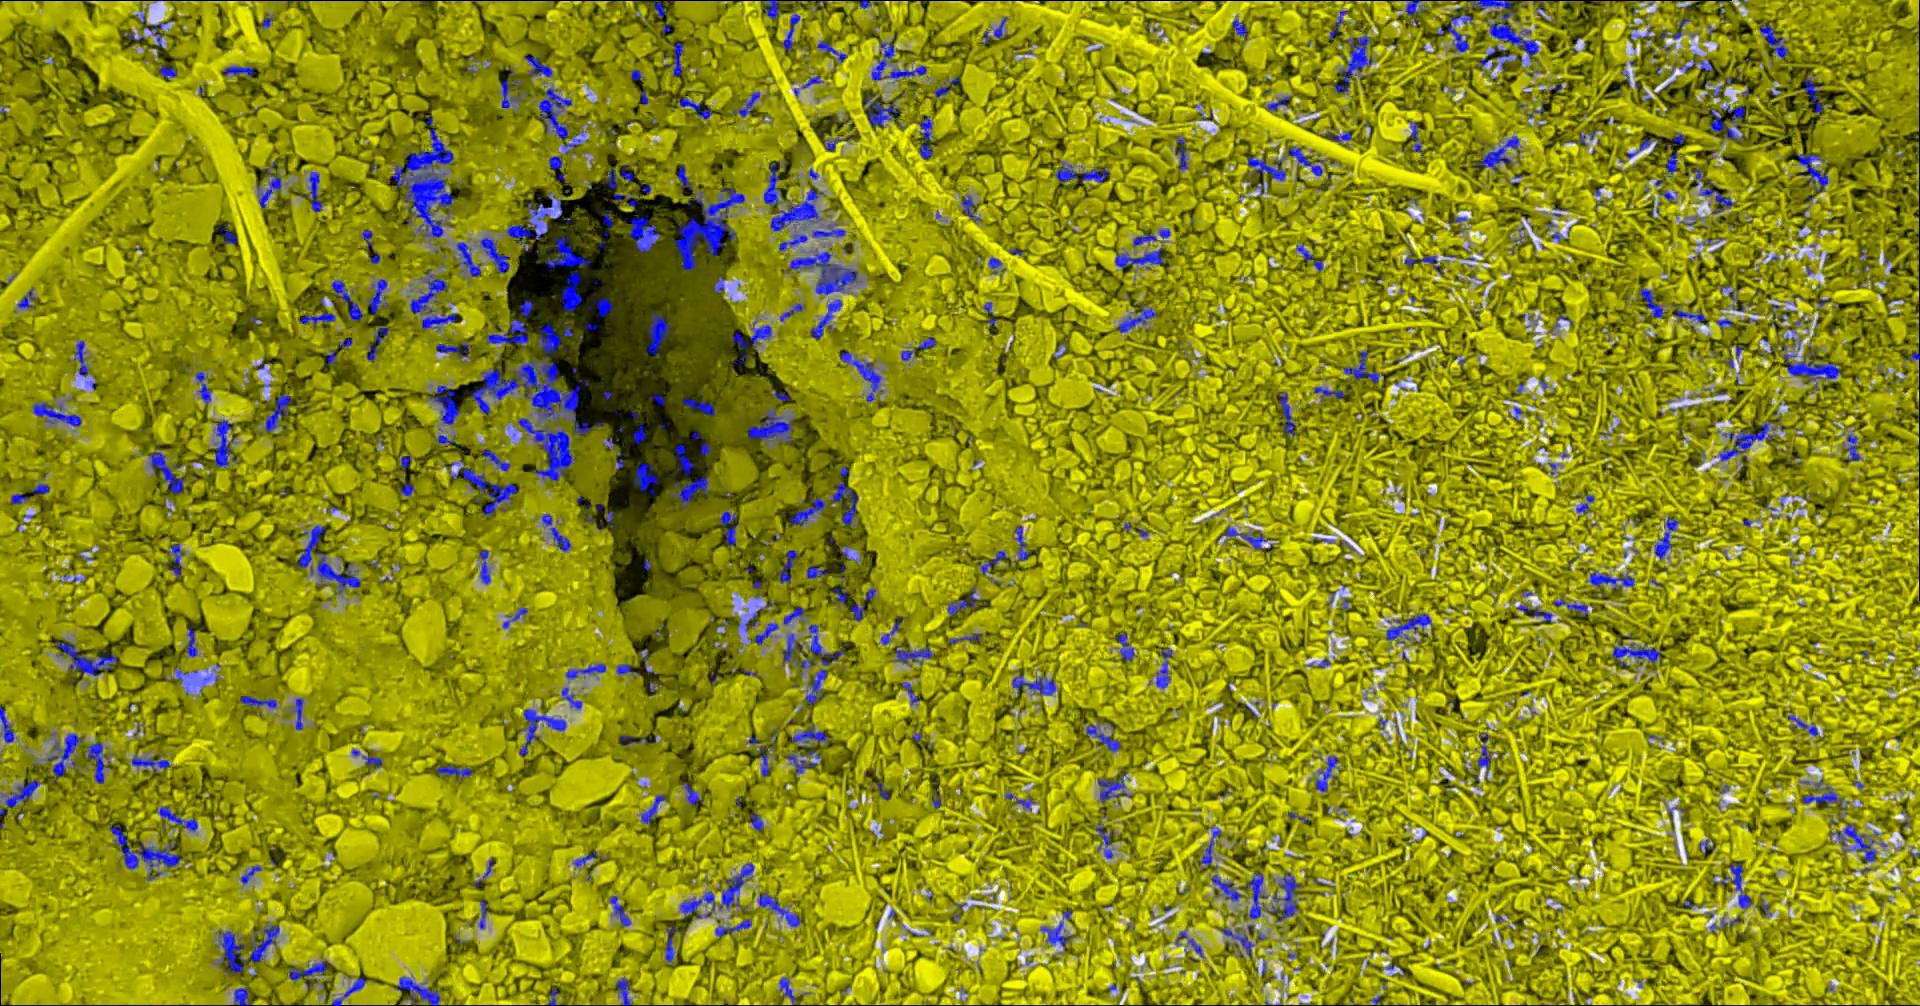ant: (679, 862, 753, 918), (804, 624, 843, 708), (451, 467, 517, 514), (537, 86, 583, 152), (505, 191, 555, 250), (409, 268, 456, 330), (1718, 417, 1784, 460), (871, 33, 926, 83), (55, 641, 117, 685), (770, 185, 824, 231), (518, 708, 566, 754), (839, 349, 883, 401), (1335, 33, 1371, 93), (1689, 166, 1732, 213), (1782, 344, 1839, 379), (1829, 823, 1876, 861), (47, 733, 83, 781), (1473, 135, 1519, 171), (748, 409, 794, 445), (149, 451, 185, 494), (543, 235, 590, 268), (757, 892, 801, 926), (623, 213, 660, 251), (1217, 526, 1272, 550), (427, 384, 460, 424), (1385, 614, 1431, 643), (394, 976, 439, 1005), (783, 633, 815, 674), (133, 10, 168, 48), (1611, 641, 1660, 668), (1039, 909, 1073, 946), (1796, 152, 1827, 192), (669, 475, 709, 507), (331, 279, 362, 320), (810, 298, 841, 339), (863, 93, 899, 127), (1710, 104, 1743, 141), (32, 401, 81, 426), (1343, 351, 1379, 384), (486, 318, 528, 345), (830, 481, 857, 525), (257, 159, 279, 208), (786, 746, 822, 777), (541, 513, 570, 551), (479, 238, 509, 273), (1728, 860, 1751, 907), (1114, 246, 1163, 268), (1117, 304, 1156, 332), (646, 311, 670, 354), (215, 419, 236, 467), (1288, 146, 1323, 175), (1222, 927, 1257, 956), (790, 497, 827, 525), (1055, 163, 1109, 182), (155, 807, 197, 831), (1097, 772, 1131, 801), (1759, 22, 1787, 57), (1084, 723, 1120, 751), (330, 977, 366, 1005), (763, 161, 786, 205), (1655, 517, 1677, 560), (1247, 155, 1285, 180), (1404, 250, 1443, 276), (264, 392, 290, 431), (947, 586, 980, 615), (1011, 673, 1055, 695), (5, 779, 39, 807), (298, 171, 323, 211), (1199, 826, 1220, 869), (791, 723, 829, 747), (88, 741, 109, 782), (631, 462, 658, 495), (560, 271, 582, 311), (455, 241, 480, 276), (1589, 570, 1634, 589), (850, 587, 875, 621), (1801, 77, 1825, 113), (900, 337, 936, 359), (1479, 46, 1511, 71), (759, 0, 801, 19), (1801, 786, 1843, 805), (1316, 754, 1337, 791), (1277, 391, 1295, 436), (678, 97, 712, 119), (1210, 874, 1239, 901), (778, 549, 797, 589), (1672, 304, 1708, 325), (366, 326, 389, 359), (1638, 288, 1663, 318), (1131, 227, 1170, 246), (367, 278, 387, 314), (1552, 598, 1592, 616), (1175, 931, 1203, 956), (603, 164, 632, 188), (640, 794, 664, 823), (288, 960, 325, 979), (817, 39, 847, 62), (1095, 822, 1114, 857), (731, 91, 759, 116), (1477, 732, 1491, 780), (1658, 17, 1689, 38), (917, 116, 932, 159), (436, 342, 472, 359), (499, 79, 522, 107), (585, 295, 613, 318), (880, 616, 903, 644), (1156, 647, 1171, 688), (895, 645, 931, 663), (715, 918, 750, 936), (481, 448, 510, 470), (749, 622, 778, 644), (1787, 715, 1817, 735), (610, 895, 630, 926), (664, 42, 682, 76), (524, 53, 551, 76), (719, 511, 737, 545), (979, 550, 1006, 573), (565, 663, 604, 678), (782, 14, 799, 50), (436, 763, 471, 780), (674, 443, 693, 474), (756, 746, 775, 776), (131, 756, 169, 771), (682, 398, 714, 415), (1517, 605, 1550, 621), (72, 340, 88, 376), (166, 542, 182, 578), (1627, 138, 1655, 158), (749, 323, 771, 347), (1004, 793, 1034, 810), (502, 607, 527, 627), (298, 312, 335, 326), (1330, 10, 1347, 38), (1015, 525, 1029, 560), (0, 706, 14, 742), (615, 977, 632, 1005), (778, 977, 796, 1005), (935, 76, 959, 97), (1709, 916, 1741, 931), (778, 234, 808, 250), (1531, 0, 1558, 18), (239, 695, 276, 708), (664, 925, 677, 962), (1404, 0, 1426, 22), (1564, 130, 1595, 145), (683, 782, 703, 805), (1175, 136, 1189, 169), (549, 156, 565, 184), (811, 224, 844, 238), (1116, 633, 1133, 661), (961, 196, 980, 220), (778, 304, 804, 321), (1407, 119, 1421, 151), (196, 371, 210, 403), (1845, 429, 1859, 461), (561, 687, 582, 709), (477, 549, 490, 583), (573, 850, 597, 868), (1313, 386, 1343, 400), (618, 734, 655, 746), (676, 164, 691, 191), (902, 681, 919, 704), (1266, 95, 1291, 111), (240, 865, 262, 883), (221, 65, 253, 76), (218, 225, 237, 244), (1655, 179, 1672, 199), (17, 287, 34, 307), (653, 0, 674, 17), (1771, 304, 1787, 326), (783, 606, 803, 624), (232, 987, 251, 1005), (1230, 18, 1246, 39), (293, 697, 303, 729), (613, 192, 636, 206), (1575, 494, 1592, 512), (949, 633, 979, 643), (1327, 130, 1351, 142), (983, 302, 996, 326), (993, 17, 1007, 38), (823, 137, 844, 151), (632, 423, 646, 445), (744, 608, 758, 630), (185, 626, 196, 655), (1295, 243, 1313, 259), (361, 227, 373, 250), (801, 74, 822, 88), (1665, 152, 1676, 177), (436, 431, 455, 445), (616, 663, 639, 674), (518, 298, 532, 316), (731, 330, 745, 348), (875, 781, 889, 799), (157, 65, 177, 77), (806, 565, 825, 578), (362, 754, 381, 767), (931, 785, 941, 808), (399, 479, 413, 495), (832, 587, 846, 603), (749, 813, 763, 829), (599, 210, 612, 227), (712, 276, 725, 293), (479, 901, 486, 929), (988, 257, 1001, 273), (30, 483, 50, 493), (10, 493, 28, 503), (325, 349, 337, 365), (651, 392, 664, 405), (698, 442, 710, 455), (400, 455, 410, 467)
